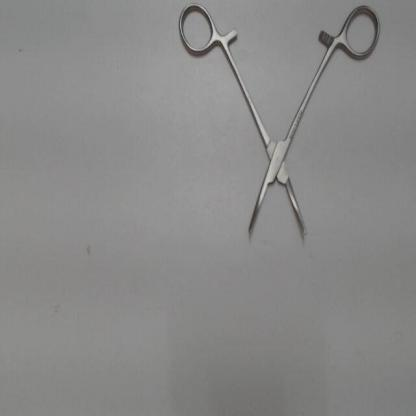Crile Artery Forceps: (169, 0, 387, 250)
